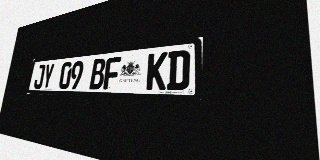0: (58, 61, 73, 89)
9: (69, 60, 84, 89)
B: (89, 58, 106, 89)
D: (166, 49, 190, 90)
F: (103, 57, 121, 90)
J: (33, 64, 46, 89)
K: (146, 52, 168, 90)
Y: (42, 63, 55, 89)
